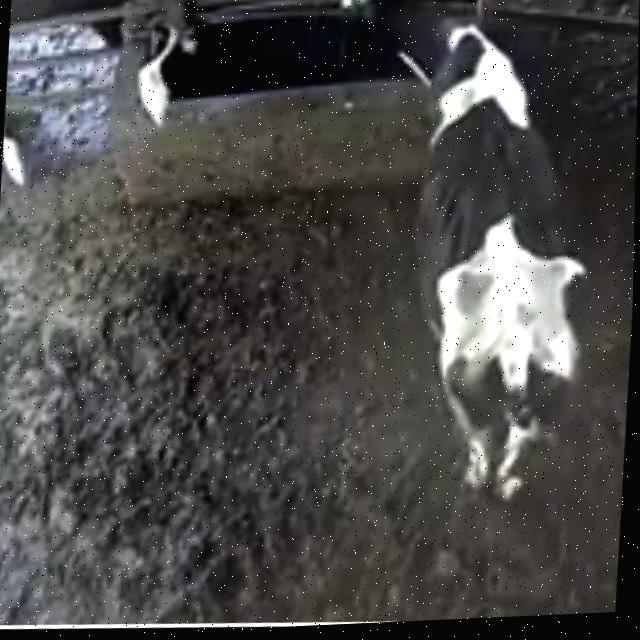drink: (310, 0, 519, 103)
